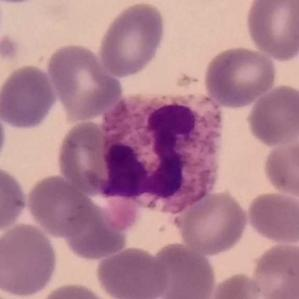Neutrophil: (92, 90, 225, 220)
Platelets: (0, 34, 23, 61)
RBC: (55, 174, 144, 259), (45, 40, 124, 121), (54, 119, 130, 197), (96, 0, 168, 78), (175, 188, 250, 257), (202, 44, 278, 108), (0, 221, 60, 299), (25, 173, 95, 238), (94, 244, 170, 299), (148, 240, 218, 299), (0, 63, 58, 131), (244, 83, 299, 148), (243, 0, 299, 62), (248, 239, 299, 299), (244, 190, 298, 245), (260, 134, 299, 199), (0, 163, 29, 236), (204, 270, 266, 299), (36, 281, 114, 299), (0, 103, 9, 170), (1, 0, 44, 7)
